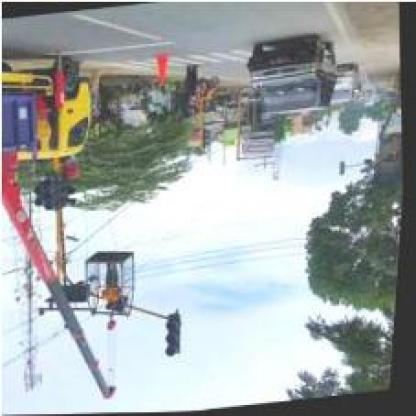green: (164, 314, 188, 358)
